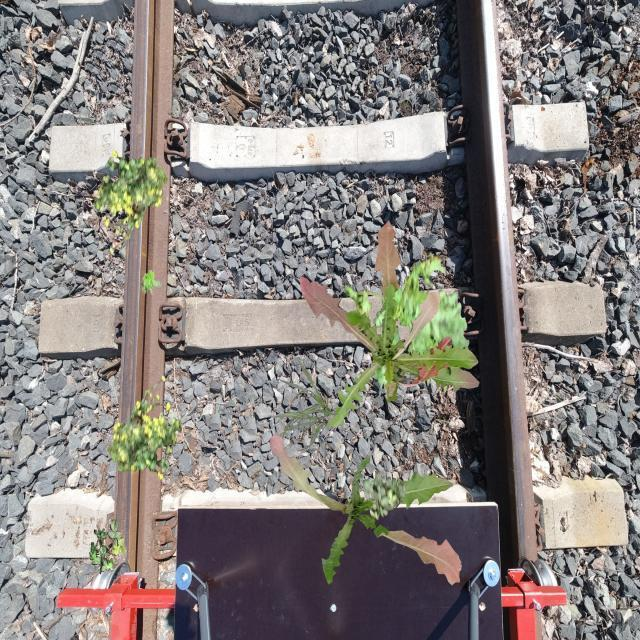Plant: (300, 220, 480, 428), (269, 434, 462, 586), (345, 250, 470, 397), (107, 375, 182, 480), (94, 150, 169, 255), (268, 357, 341, 450), (362, 471, 406, 521), (89, 519, 126, 574), (141, 270, 162, 295)
